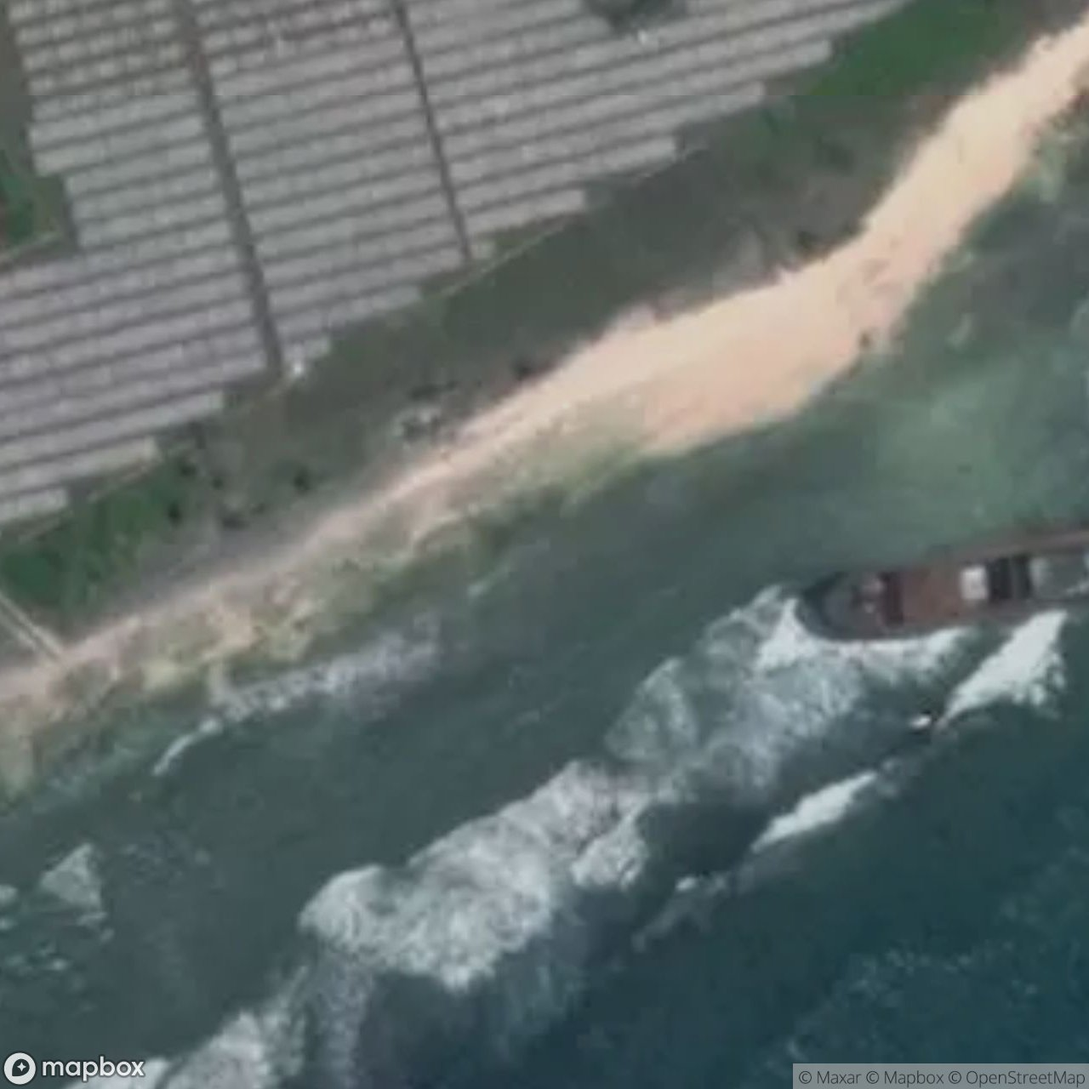Wreck: (744, 530, 1089, 654)
